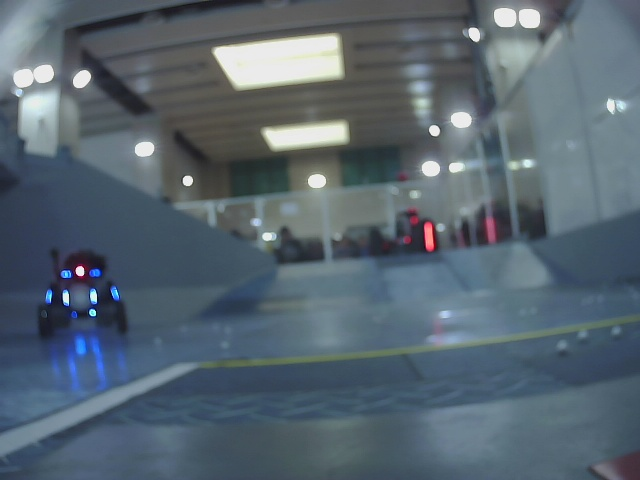lamp: (61, 288, 70, 308), (90, 290, 97, 305)
pair: (61, 288, 98, 304)
